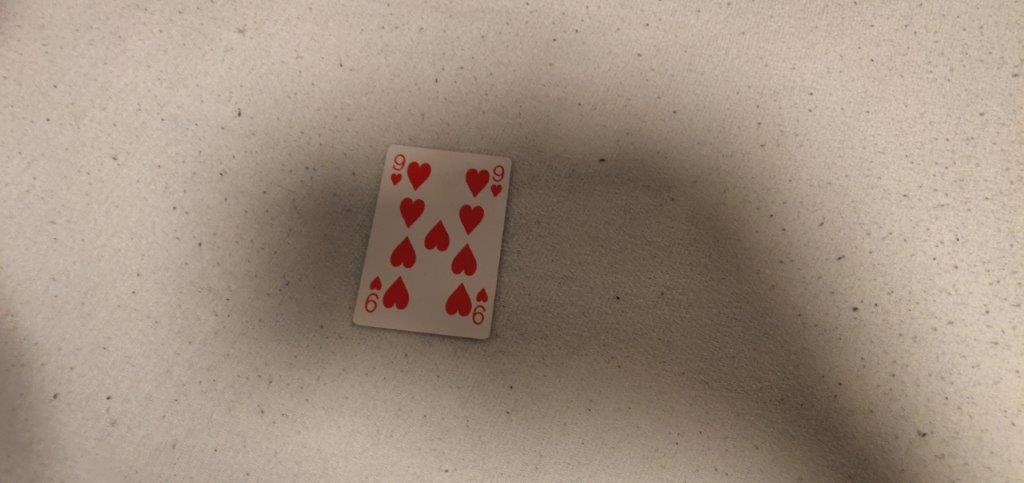9H: (388, 149, 408, 189), (488, 162, 505, 199)
